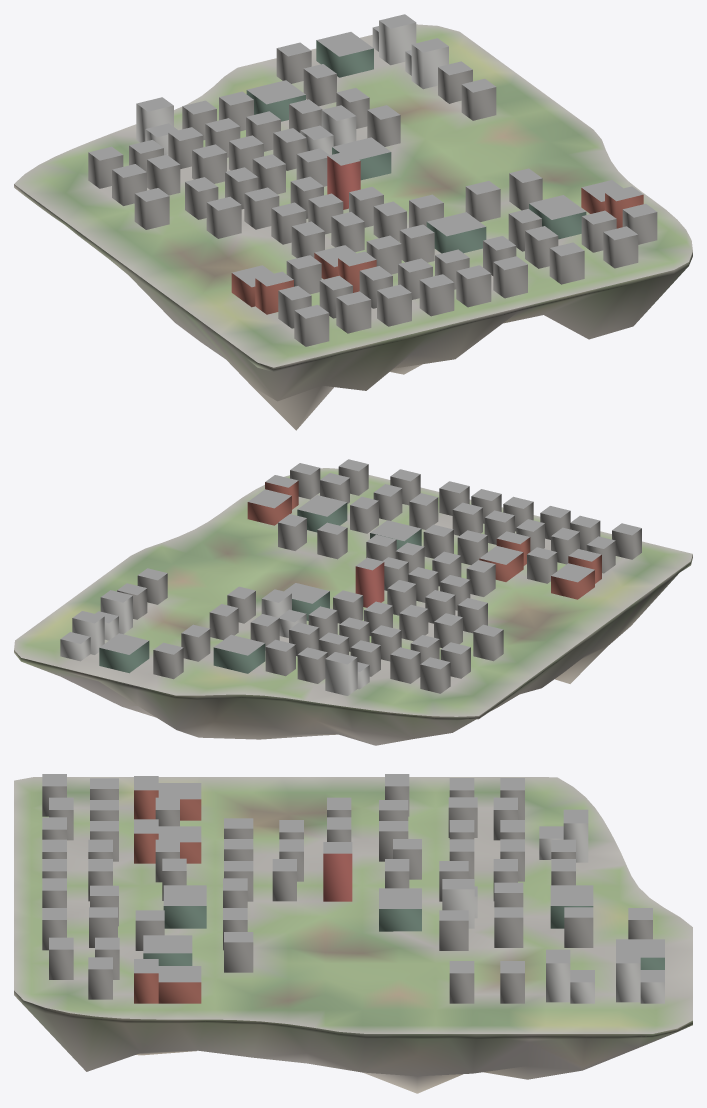
File: SKY-005.lod1.glb
3 renders of one model, top to bottom at view 1: azimuth 30°, elevation 25°; view 2: azimuth 150°, elevation 25°; view 3: azimuth 270°, elevation 25°, orthographic. The views are drawn at different scales.
Parts seen in each view (by area): view 1: buildings, deck, rock; view 2: buildings, deck, rock; view 3: deck, buildings, rock.
Part boxes in pixels (bbox=[...]): buildings: bbox=[88, 14, 657, 346]; deck: bbox=[14, 24, 692, 367]; rock: bbox=[14, 184, 692, 430]; buildings: bbox=[60, 459, 641, 695]; deck: bbox=[14, 468, 692, 716]; rock: bbox=[14, 555, 692, 745]; deck: bbox=[14, 777, 692, 1033]; buildings: bbox=[42, 774, 664, 1003]; rock: bbox=[14, 990, 692, 1093].
Size of the model in its own units: 199 by 66.28 by 222.
